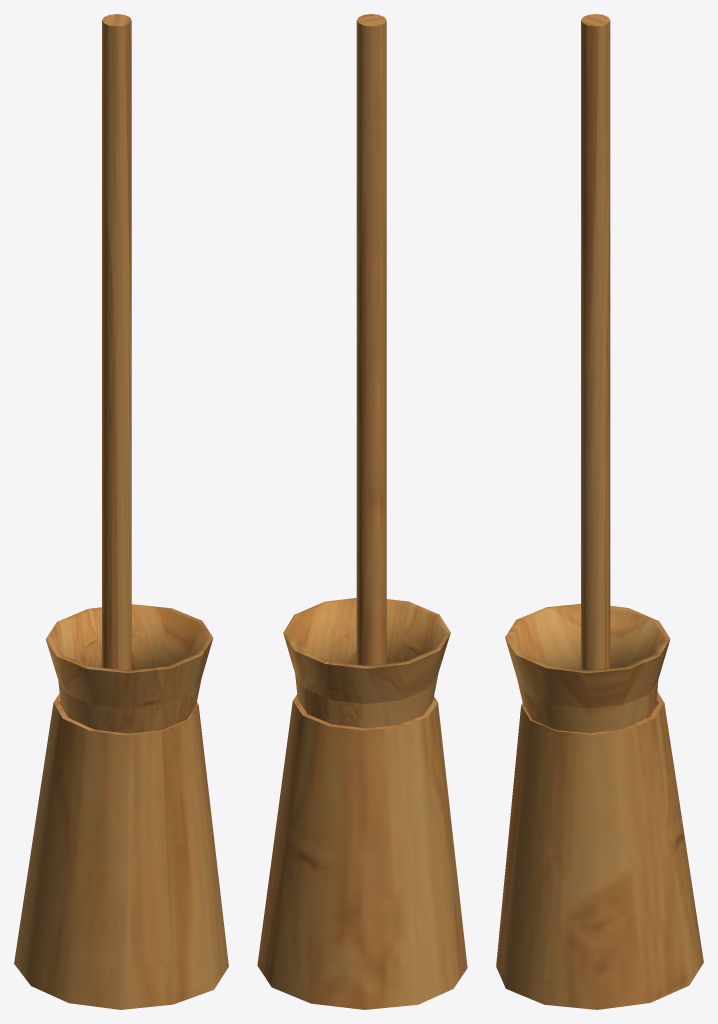
File: ButterChurn_Ground.fbx
3 renders of one model, left to right at view 1: azimuth 30°, elevation 25°; view 2: azimuth 150°, elevation 25°; view 3: azimuth 270°, elevation 25°, orthographic.
Visible parts, largest first — view 1: ButterChurn; view 2: ButterChurn; view 3: ButterChurn.
Part boxes in pixels (<box>): ButterChurn: <box>14,14,228,1009</box>; ButterChurn: <box>257,14,467,1009</box>; ButterChurn: <box>496,14,703,1009</box>.
Size of the model in its own units: 44.62 by 221 by 44.19.
